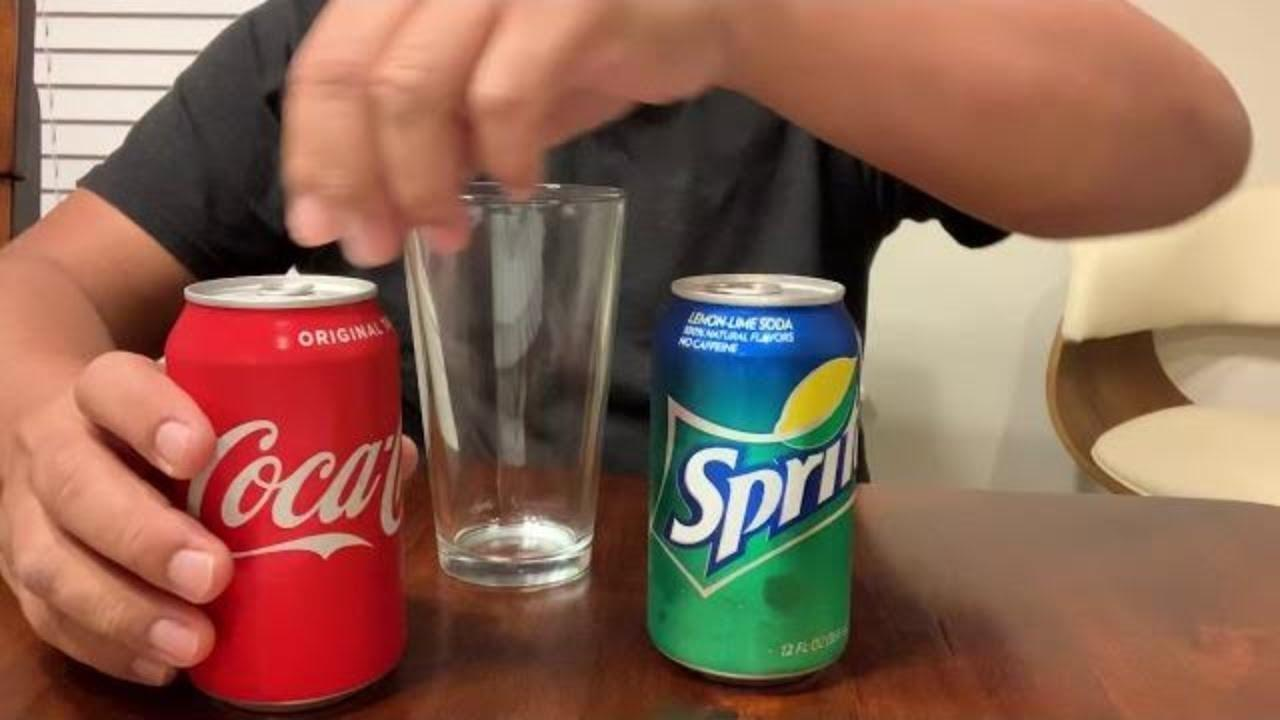glass-normal: (399, 179, 630, 592)
tin can: (160, 272, 406, 706), (640, 271, 863, 687)
